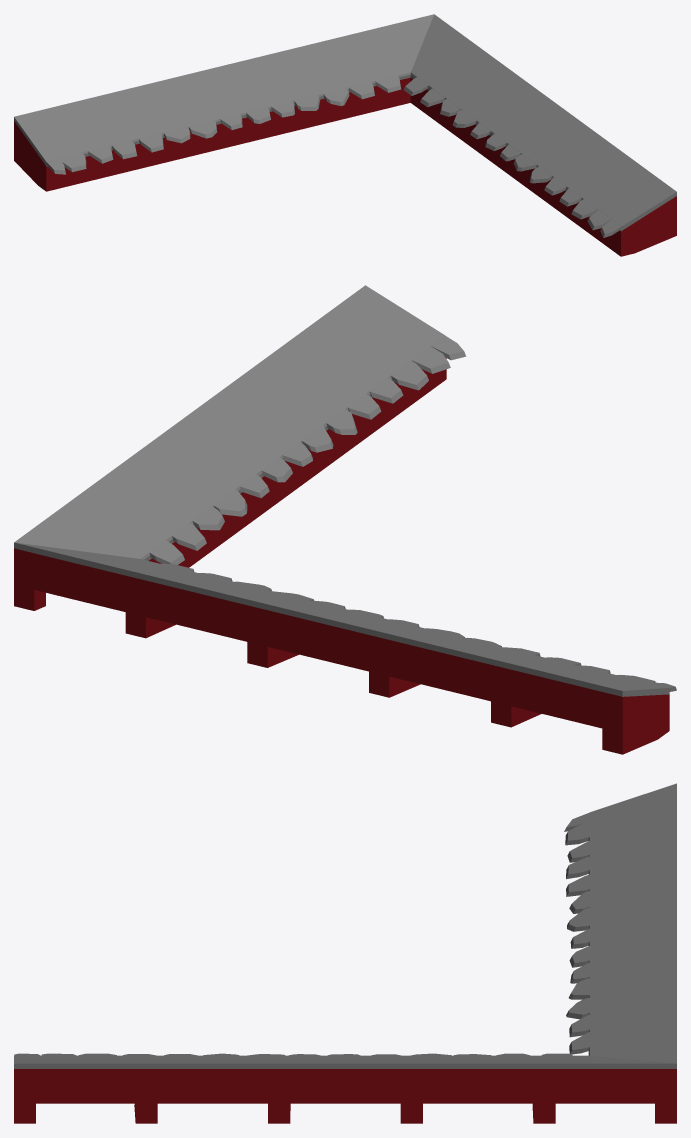
Rendered from SM_MH_01_Slate_Porch_Roof_End_Intersection_01.fbx.
3 renders of one model, top to bottom at view 1: azimuth 30°, elevation 25°; view 2: azimuth 150°, elevation 25°; view 3: azimuth 270°, elevation 25°, orthographic. The views are drawn at different scales.
Visible parts, largest first — view 1: SM_MH_01_Slate_Porch_Roof_End_Intersection_01_LOD0; view 2: SM_MH_01_Slate_Porch_Roof_End_Intersection_01_LOD0; view 3: SM_MH_01_Slate_Porch_Roof_End_Intersection_01_LOD0.
Boxes of the visible parts, x1=… form: SM_MH_01_Slate_Porch_Roof_End_Intersection_01_LOD0: x1=14, y1=14, x2=676, y2=256; SM_MH_01_Slate_Porch_Roof_End_Intersection_01_LOD0: x1=14, y1=285, x2=676, y2=754; SM_MH_01_Slate_Porch_Roof_End_Intersection_01_LOD0: x1=14, y1=783, x2=676, y2=1123.
Size of what is drawn, in the model's own units: 300 by 35 by 300.
